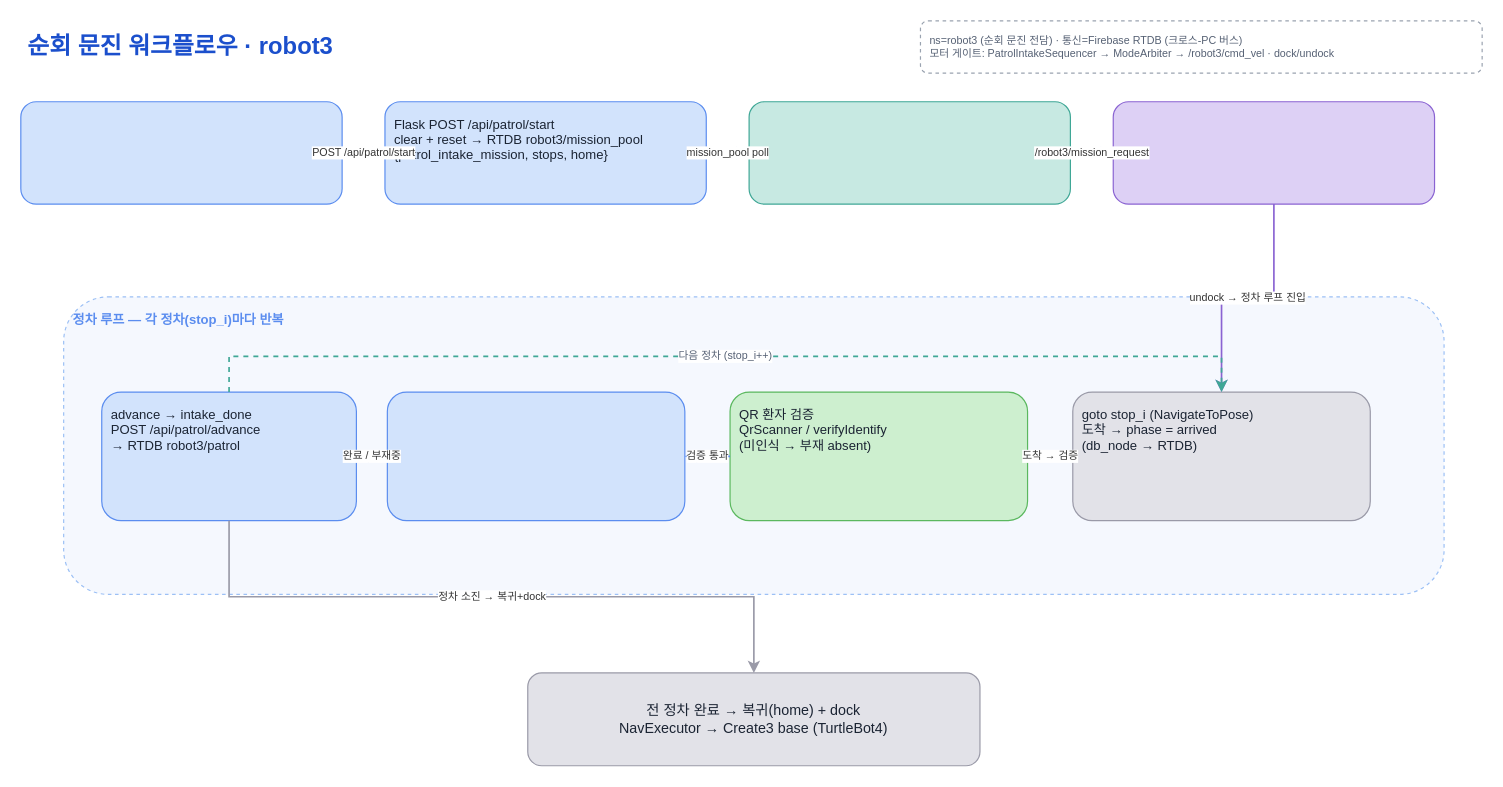
Image size: 1503x787. Some labels were removed from this diagram. The shapes that lost their labels are listed below. From the top down, each one's centre as x and y in pixels, then its label:
At point 181,152: "웹: '순회 문진 시작' page.tsx · RoundsIntakeOverlay (PATROL_NS = robot3)".
At point 909,152: "db_node (db_bridge) mission_pool 폴링 → /robot3/mission_request".
At point 1273,152: "MissionManager → PatrolIntakeSequencer FSM: undock → 정차 루프 → 복귀·dock".
At point 535,456: "문진 작성 / 부재중 IntakeForm setIntakeStatus · addVisit".
